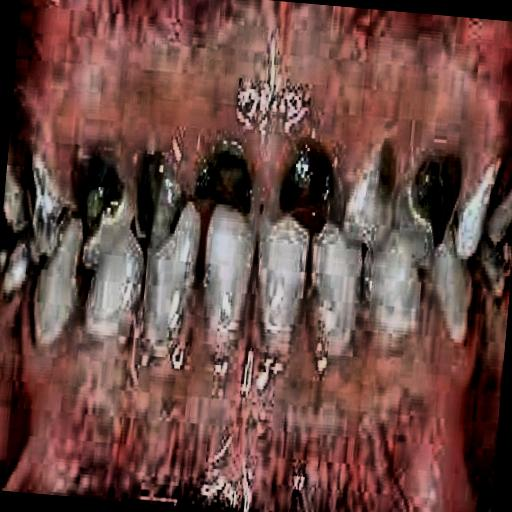Caries: (182, 108, 366, 254), (370, 128, 507, 245), (58, 126, 171, 244)
